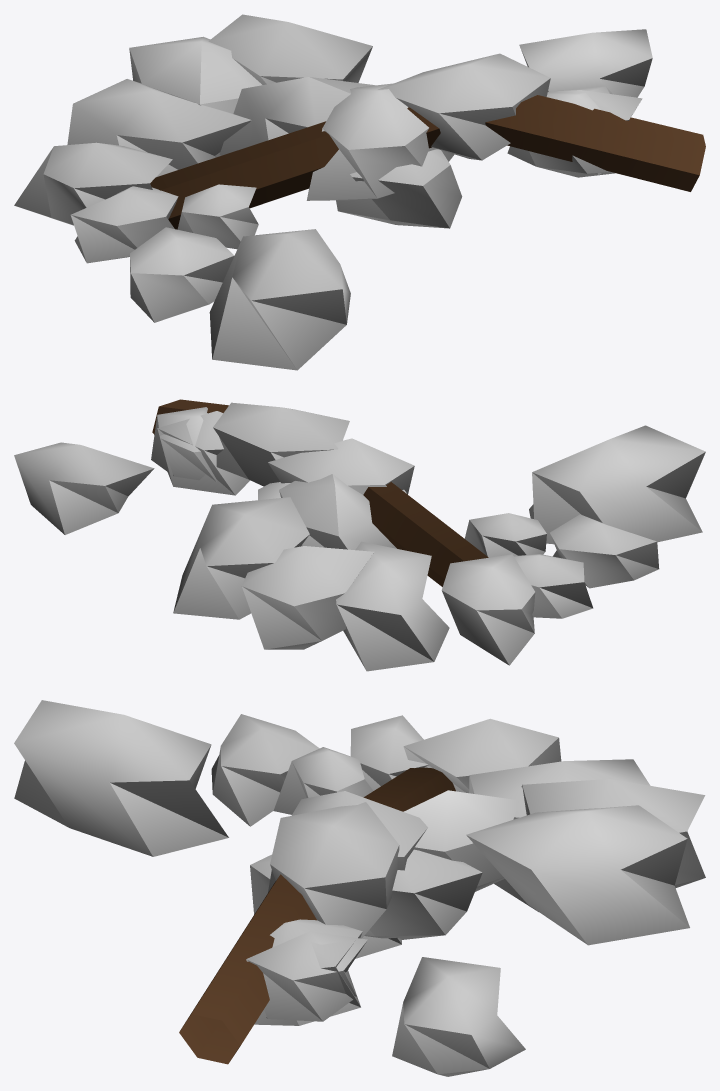
File: rockfall.glb
3 views of the same model, one above another, from view 1: azimuth 30°, elevation 25°; view 2: azimuth 150°, elevation 25°; view 3: azimuth 270°, elevation 25° (orthographic). The views are drawn at different scales.
Visible parts, largest first — view 1: rockfall, rockfall_trim; view 2: rockfall, rockfall_trim; view 3: rockfall, rockfall_trim.
Boxes of the visible parts, x1,y1,x2,y2 form: rockfall: (14,14,652,370); rockfall_trim: (150,95,705,229); rockfall: (14,402,705,671); rockfall_trim: (152,399,488,586); rockfall: (14,700,705,1076); rockfall_trim: (179,767,455,1064).
Size of the model in its own units: 1.08 by 0.2507 by 0.9181.
